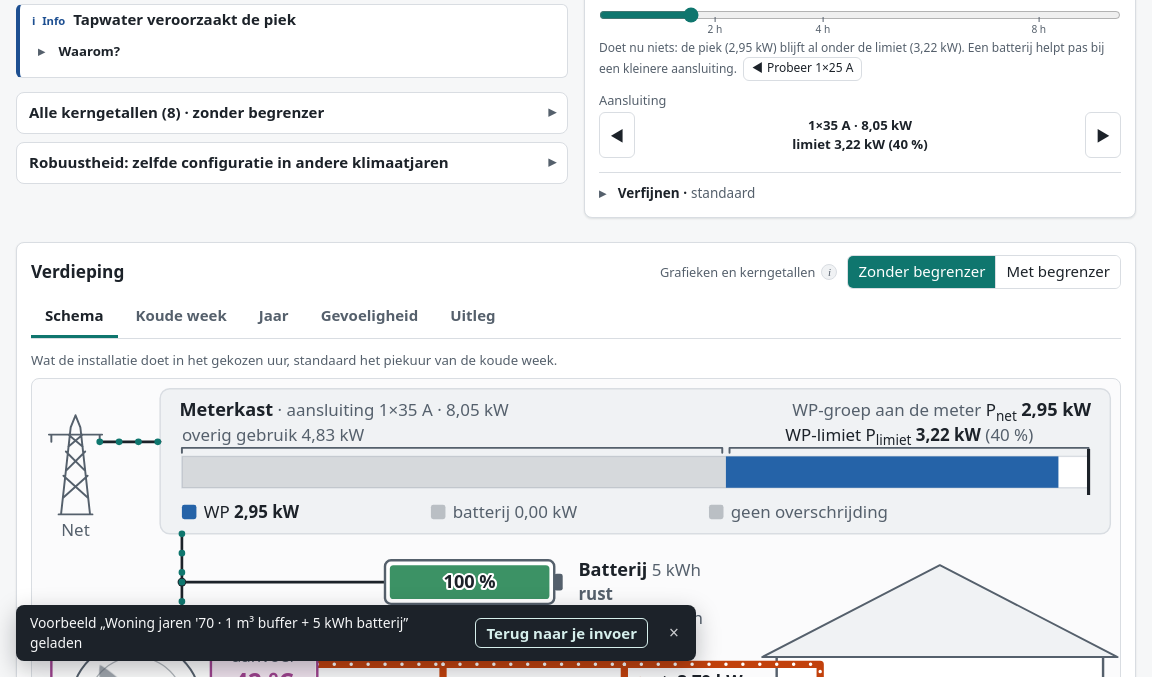
Test: peakshaving-pagina › tabbladen Koude week, Jaar en Gevoeligheid renderen met resultaten
This screenshot has width=1152, height=677.
(page scrolled)
Check: the tab "Schema" is shown, box [31,297,118,338]
Click the tab "Koude week" at (181, 318), box [122,297,241,338]
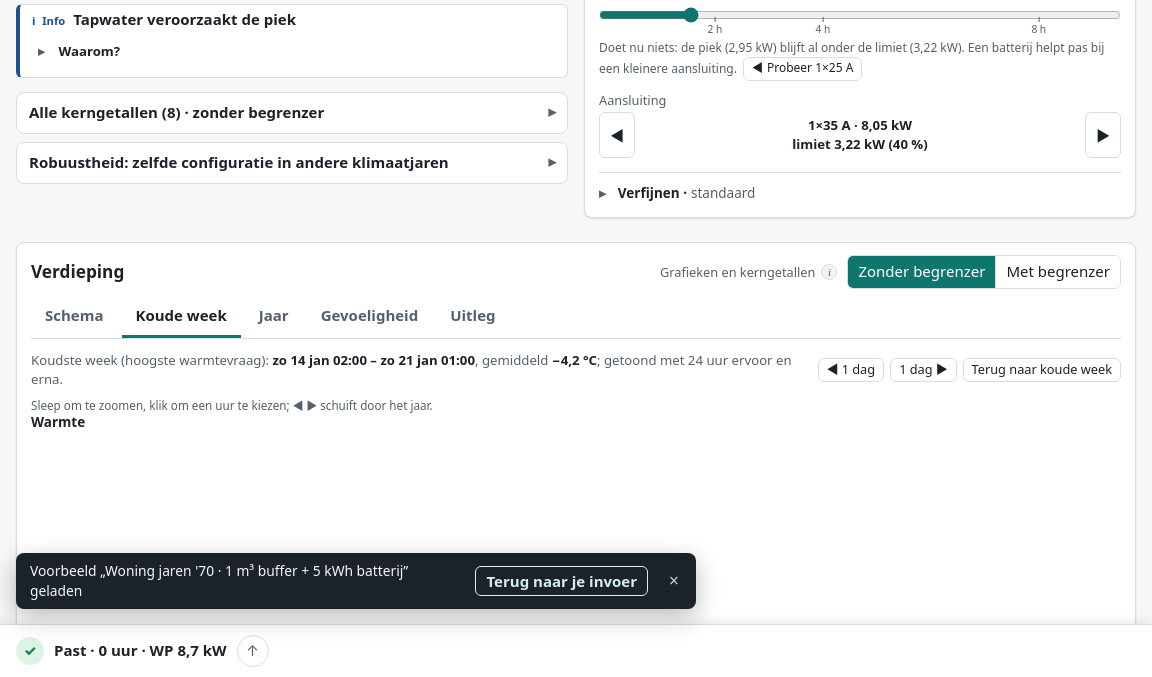
Check: the text "Koudste week (hoogste warmtevraag)" is shown, box [31,351,269,369]
Click the tab "Jaar" at (274, 318), box [245,297,303,338]
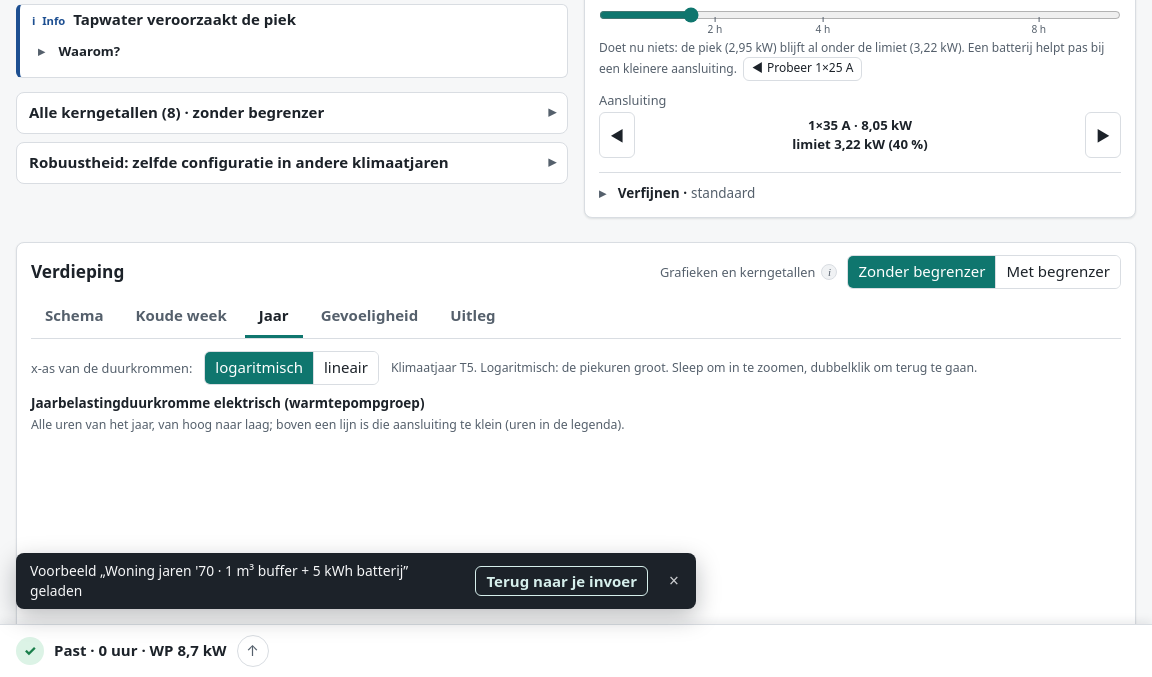
Click the tab "Gevoeligheid" at (369, 318), box [307,297,432,338]
(page scrolled)
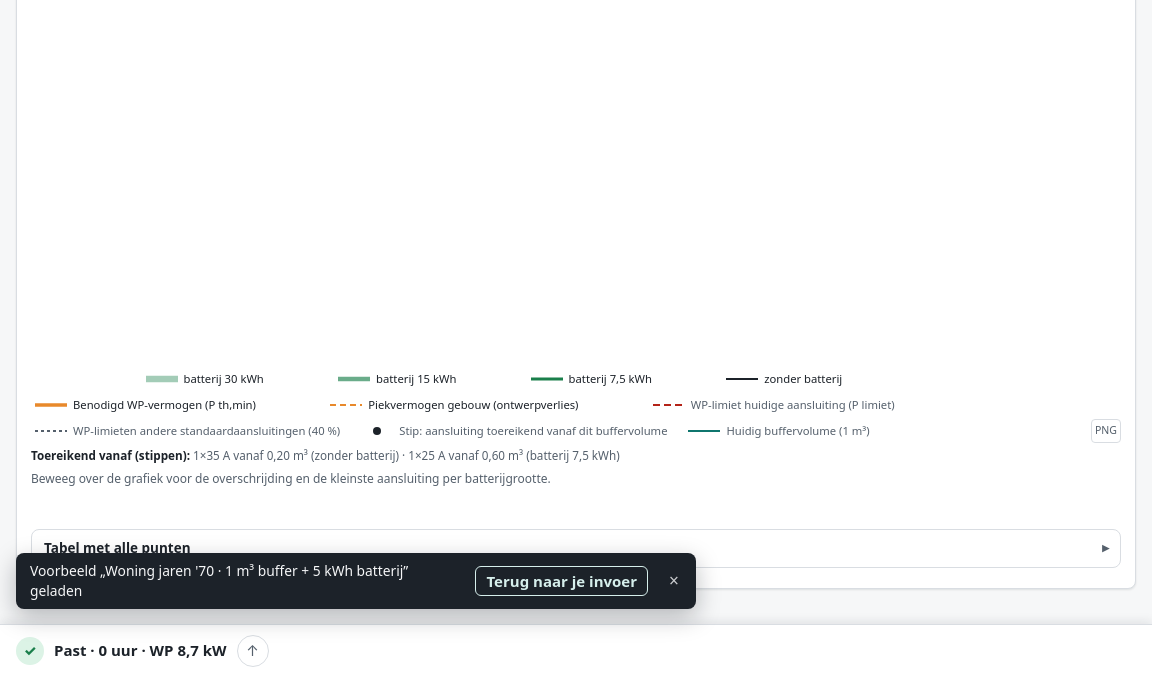
Check: the heading "Tabel met alle punten" is shown, box [44,539,190,557]
